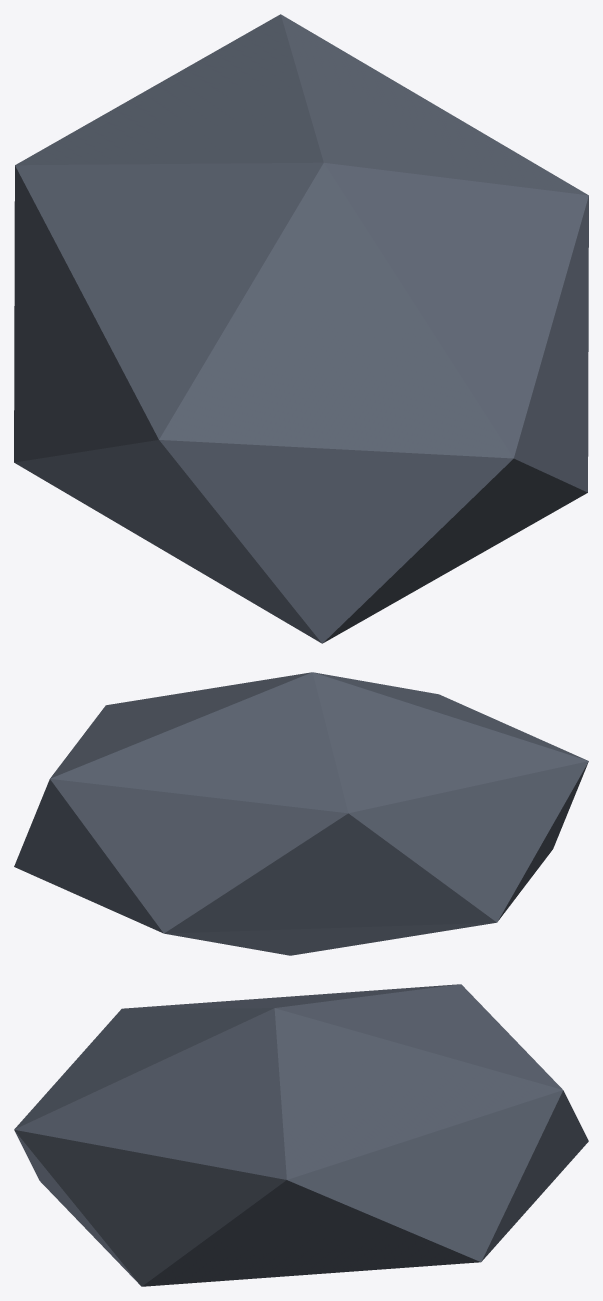
Rendered from EXTG_BranchStone_04.glb.
The picture shows the model from 3 angles, top to bottom: view 1: azimuth 30°, elevation 25°; view 2: azimuth 150°, elevation 25°; view 3: azimuth 270°, elevation 25°; orthographic projection. The views are drawn at different scales.
Parts seen in each view (by area): view 1: EXTG_BranchStone_04; view 2: EXTG_BranchStone_04; view 3: EXTG_BranchStone_04.
Part boxes in pixels (x1,y1,x2,y2): EXTG_BranchStone_04: [14, 14, 588, 643]; EXTG_BranchStone_04: [14, 672, 588, 955]; EXTG_BranchStone_04: [14, 984, 588, 1286].
Size of the model in its own units: 0.8278 by 0.5108 by 1.03.
